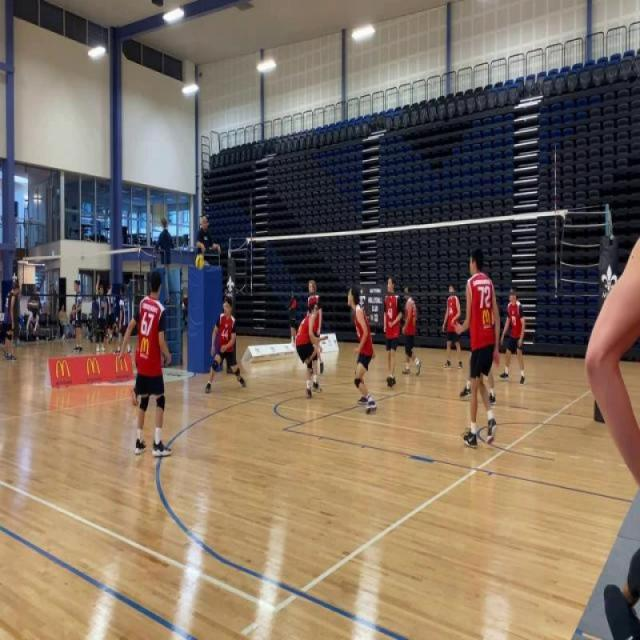volleyball: (194, 252, 206, 270)
